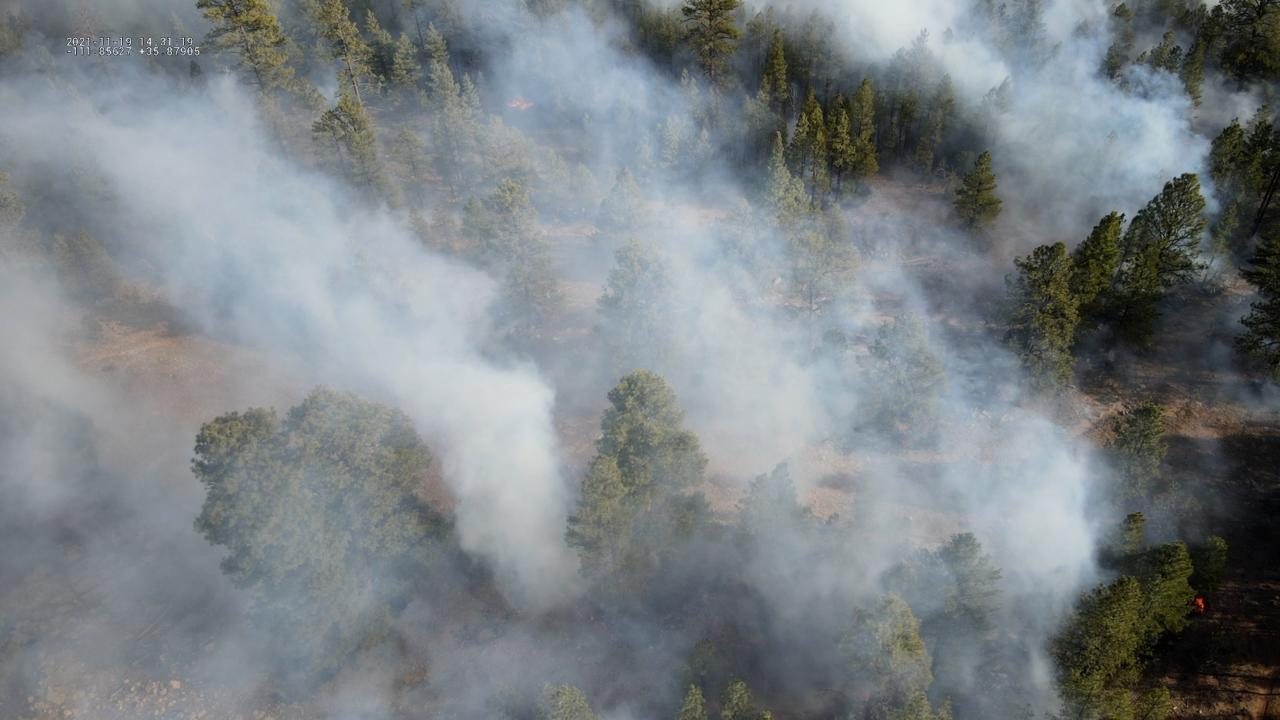fire: (502, 95, 535, 111), (1192, 596, 1205, 615)
smoke: (0, 0, 1280, 720)
